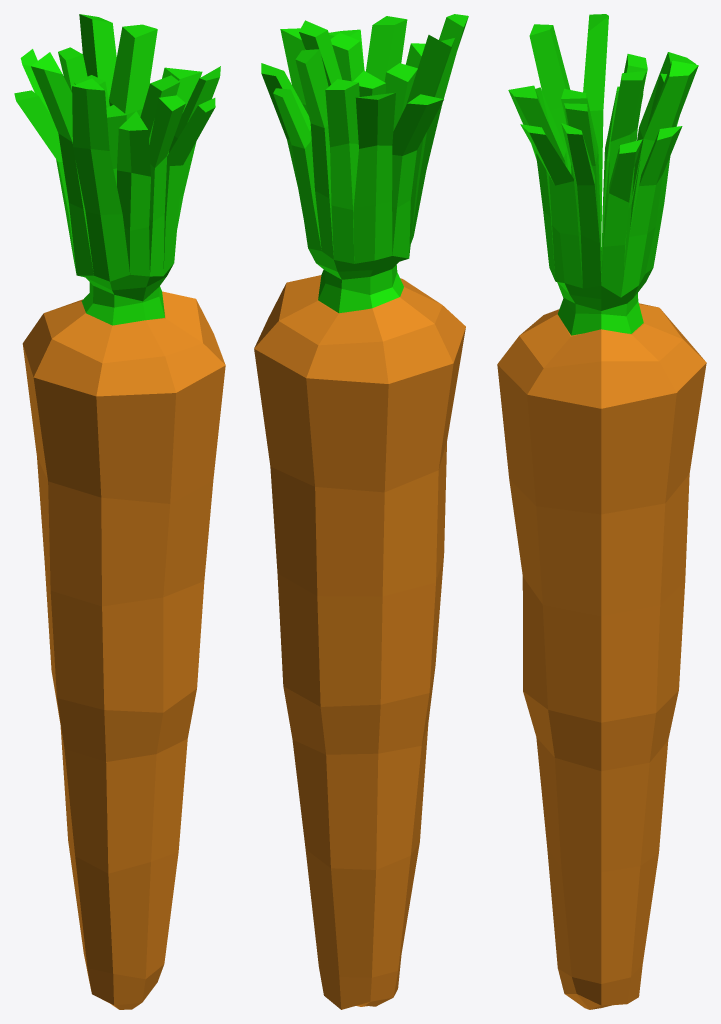
The model's file is Carrot.fbx.
3 renders of one model, left to right at view 1: azimuth 30°, elevation 25°; view 2: azimuth 150°, elevation 25°; view 3: azimuth 270°, elevation 25°, orthographic. The views are drawn at different scales.
Parts seen in each view (by area): view 1: Cylinder, Cylinder.001; view 2: Cylinder, Cylinder.001; view 3: Cylinder, Cylinder.001.
Part boxes in pixels (x1,y1,x2,y2): Cylinder: (22,291,225,1009); Cylinder.001: (14,14,220,325); Cylinder: (254,275,465,1009); Cylinder.001: (261,14,468,313); Cylinder: (497,303,706,1009); Cylinder.001: (508,14,698,335).
Size of the model in its own units: 229 by 1147 by 227.
